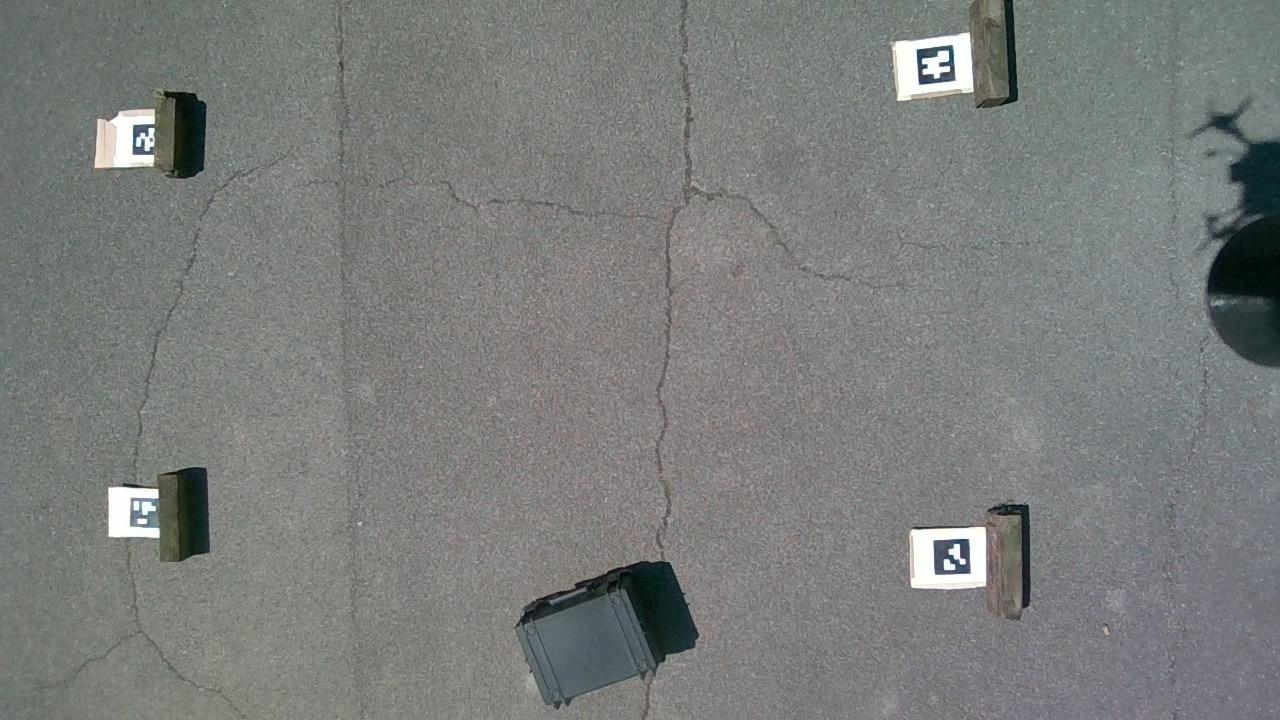rako: (515, 566, 665, 708)
